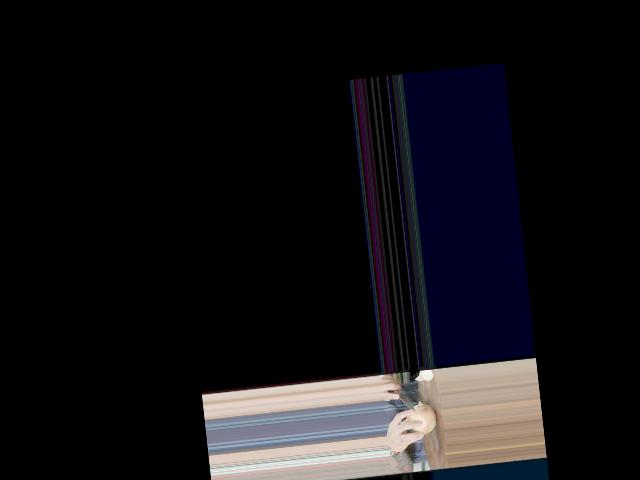onion: (406, 402, 435, 438)
